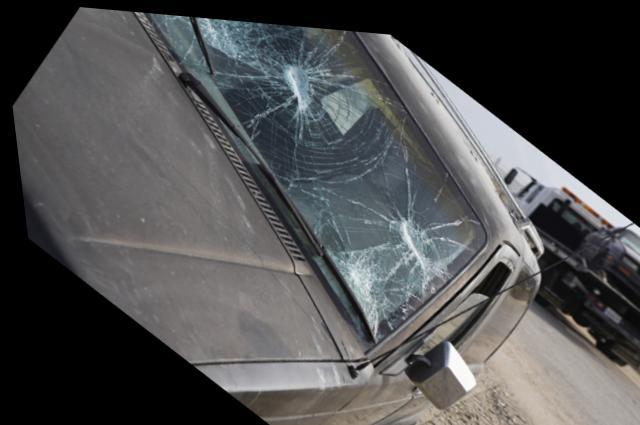glass shatter: (144, 10, 482, 338)
